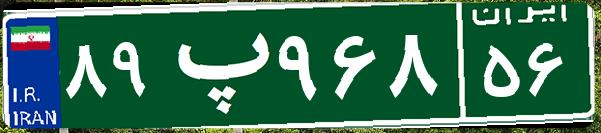5: (475, 38, 525, 113)
6: (330, 28, 385, 110), (525, 38, 570, 115)
8: (385, 28, 445, 110), (57, 26, 110, 107)
9: (273, 28, 330, 110), (110, 28, 158, 105)
پ: (158, 15, 273, 115)
